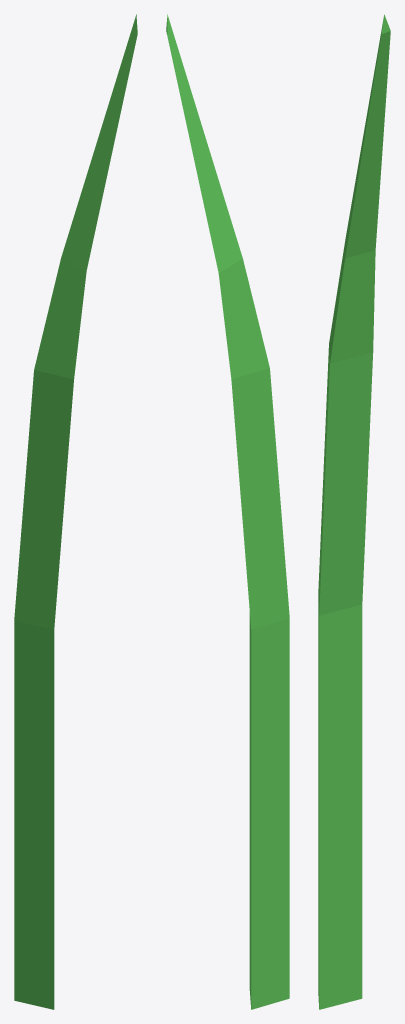
File: blade_t6.glb
3 views of the same model, side by side, from view 1: azimuth 30°, elevation 25°; view 2: azimuth 210°, elevation 25°; view 3: azimuth 330°, elevation 25° (orthographic). The views are drawn at different scales.
Parts seen in each view (by area): view 1: 6t; view 2: 6t; view 3: 6t.
Part boxes in pixels (left/top/right/bottom): 6t: left=14, top=14, right=137, bottom=1009; 6t: left=166, top=14, right=289, bottom=1009; 6t: left=318, top=14, right=390, bottom=1009.
Size of the model in its own units: 0.1267 by 1.24 by 0.0759.
